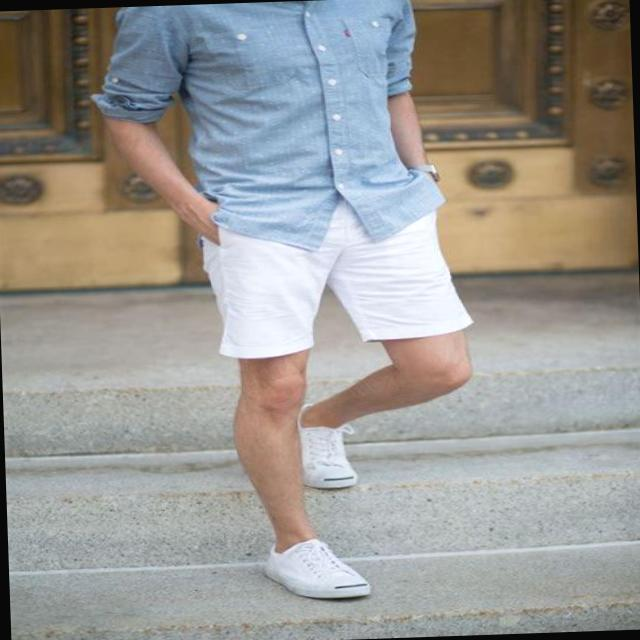shirt: (86, 0, 446, 256)
short: (199, 190, 477, 361)
